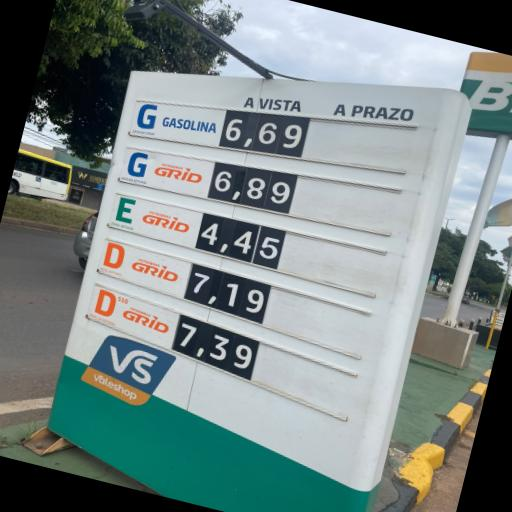ETANOL: (106, 194, 201, 251)
GASOLINA AD: (113, 147, 215, 200)
GASOLINA C: (127, 103, 227, 144)
S10: (86, 284, 182, 349)
S500: (99, 240, 193, 300)
placa: (78, 102, 317, 387)
preco: (174, 314, 262, 374), (197, 213, 286, 269), (209, 161, 299, 214), (189, 267, 274, 320), (220, 115, 309, 158)
